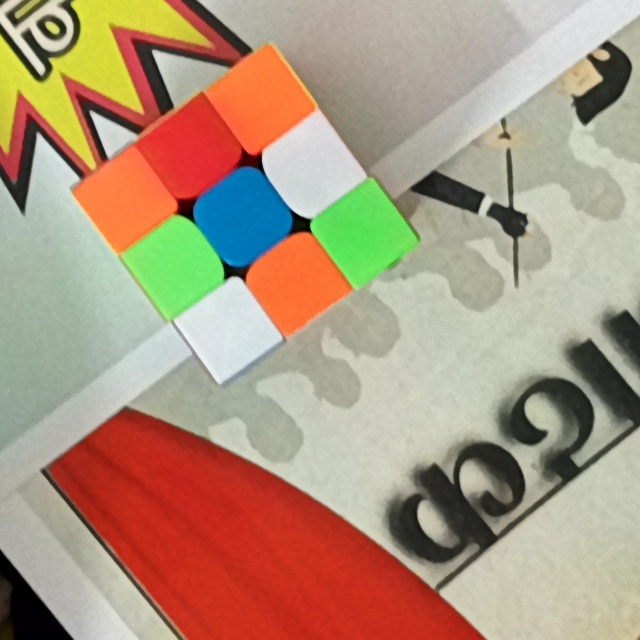tile: (283, 137, 342, 196), (335, 205, 392, 263), (98, 170, 153, 229), (217, 188, 273, 245), (272, 250, 325, 310), (230, 73, 287, 127), (201, 301, 254, 358), (147, 240, 204, 292), (168, 121, 222, 175)
